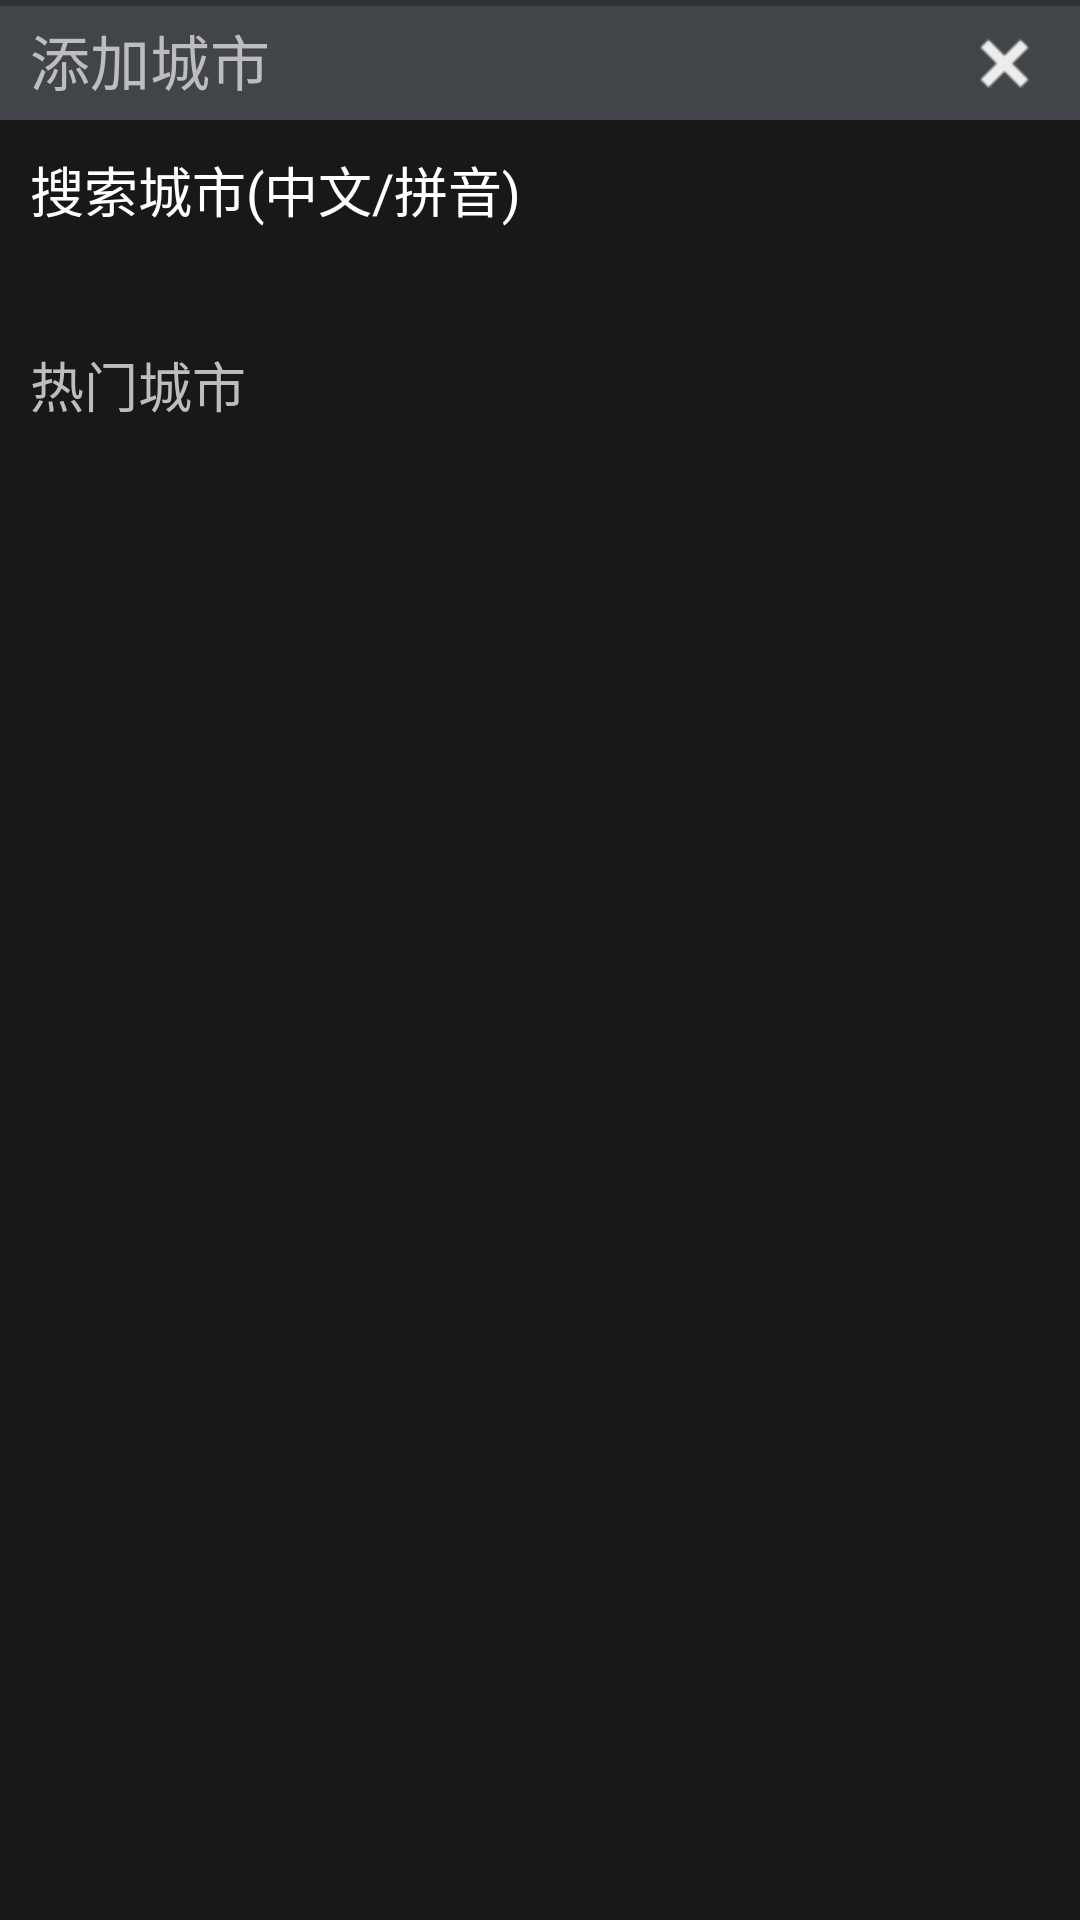

Screen size 1080*1920. Icon name, then its box in pixels as (x1, y1, x2, y2):
close: (980, 39, 1029, 88)
